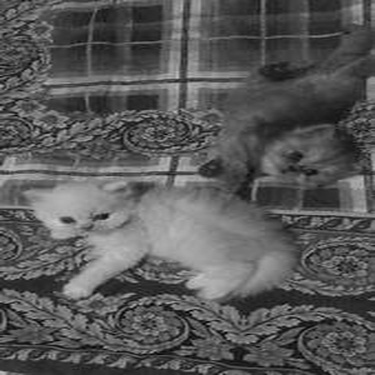cat: (20, 183, 300, 305), (225, 22, 366, 195)
